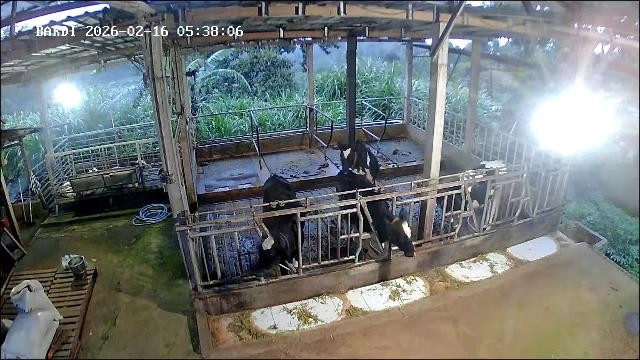mounting: (335, 138, 382, 195)
